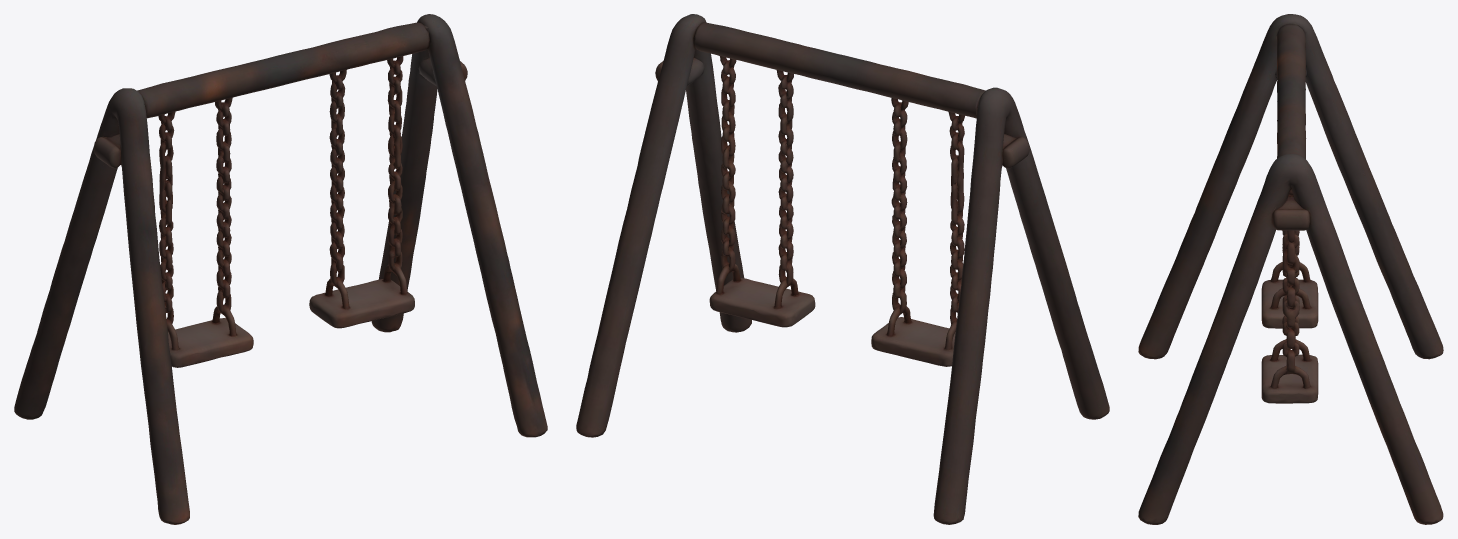
File: swings.glb
3 views of the same model, side by side, from view 1: azimuth 30°, elevation 25°; view 2: azimuth 150°, elevation 25°; view 3: azimuth 270°, elevation 25° (orthographic). The views are drawn at different scales.
Parts seen in each view (by area): view 1: Mesh; view 2: Mesh; view 3: Mesh.
Boxes of the visible parts, x1,y1,x2,y2 form: Mesh: (14, 14, 547, 524); Mesh: (576, 14, 1109, 524); Mesh: (1138, 14, 1443, 524).
Bounding box in the file's own units: 1.9 × 1.76 × 1.37.
1 material, 1 textured.
